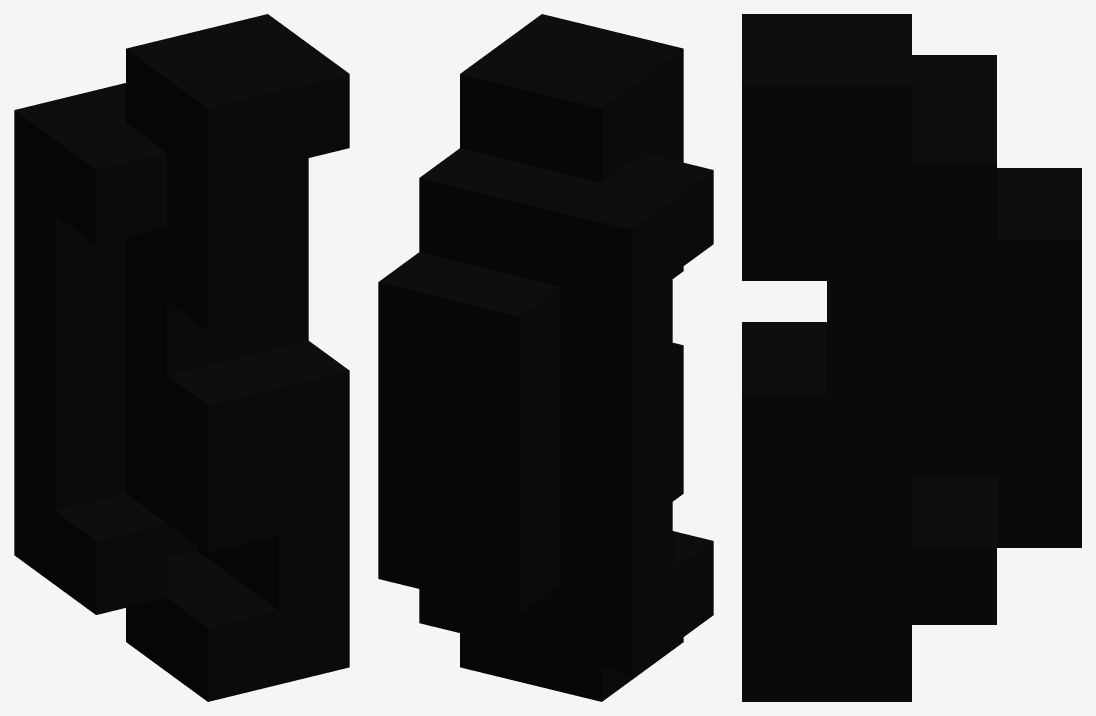
File: LargeGauge_Full_Left.002.fbx
3 views of the same model, side by side, from view 1: azimuth 30°, elevation 25°; view 2: azimuth 150°, elevation 25°; view 3: azimuth 270°, elevation 25° (orthographic). The views are drawn at different scales.
Parts seen in each view (by area): view 1: LargeGauge_Full_Left.002; view 2: LargeGauge_Full_Left.002; view 3: LargeGauge_Full_Left.002.
Part boxes in pixels (x1,y1,x2,y2): LargeGauge_Full_Left.002: (14, 14, 349, 701); LargeGauge_Full_Left.002: (378, 14, 713, 701); LargeGauge_Full_Left.002: (742, 14, 1081, 701).
Bounding box in the file's own units: 0.3 × 0.8 × 0.4.
